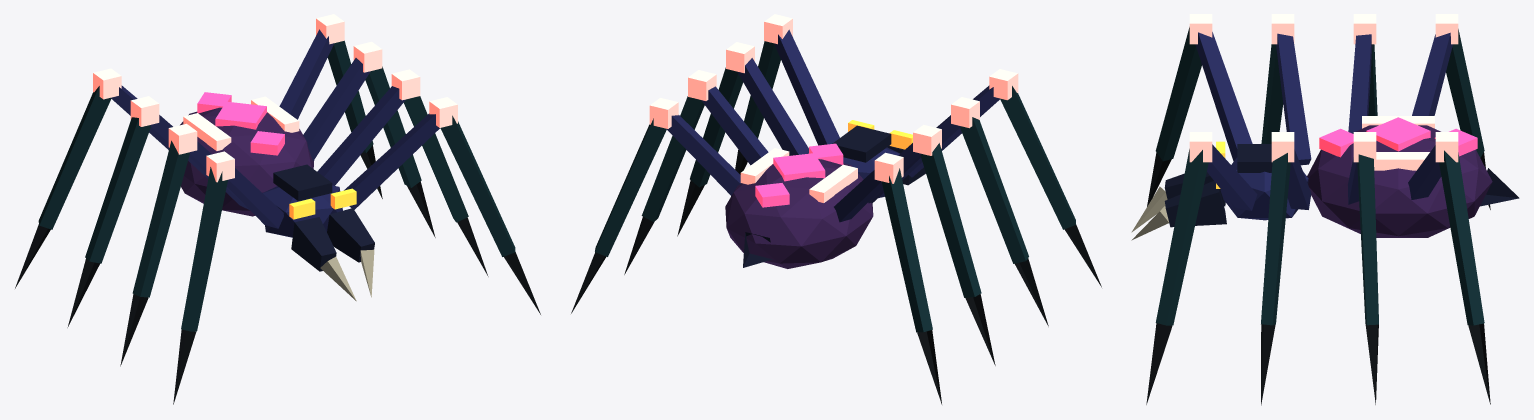
The model's file is spider.glb.
3 views of the same model, side by side, from view 1: azimuth 30°, elevation 25°; view 2: azimuth 150°, elevation 25°; view 3: azimuth 270°, elevation 25° (orthographic). The views are drawn at different scales.
Parts seen in each view (by area): view 1: FSpiderHull, FSpiderGlow; view 2: FSpiderHull, FSpiderGlow; view 3: FSpiderHull, FSpiderGlow.
Boxes of the visible parts, x1,y1,x2,y2 form: FSpiderHull: (15, 29, 540, 404); FSpiderGlow: (93, 14, 457, 219); FSpiderHull: (571, 29, 1101, 404); FSpiderGlow: (649, 14, 1018, 207); FSpiderHull: (1131, 27, 1519, 405); FSpiderGlow: (1189, 14, 1477, 188).
Bounding box in the file's own units: 1.52 × 0.8375 × 1.28.
